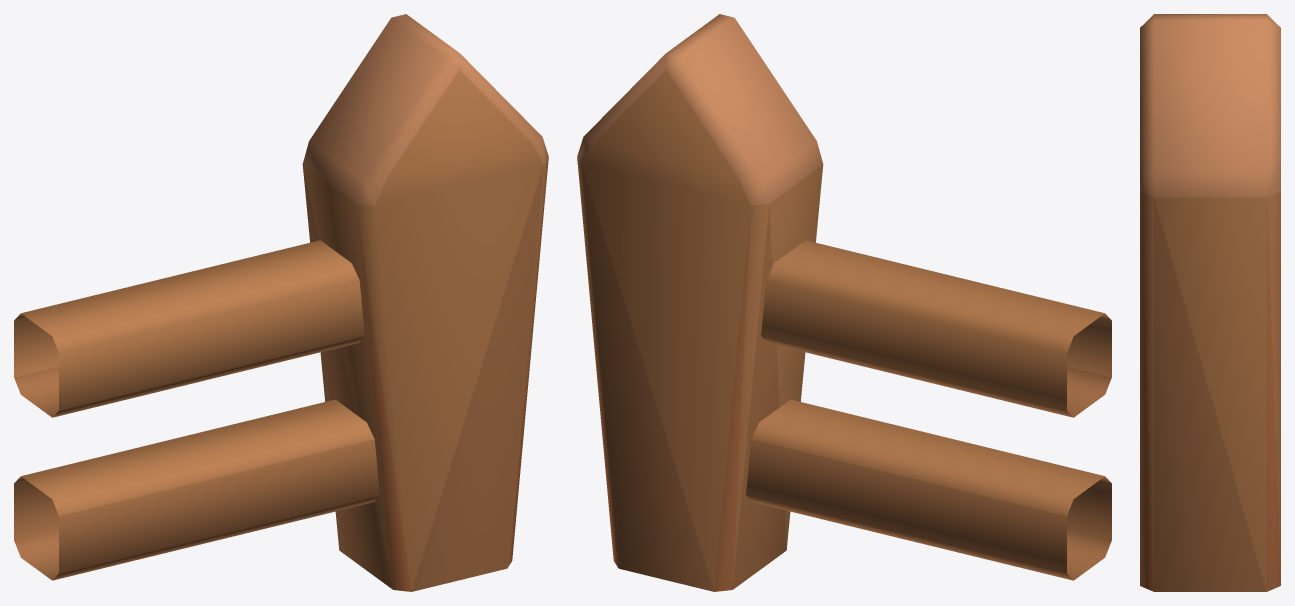
The model's file is itch_tiny_homely_house_fence_open.glb.
3 renders of one model, left to right at view 1: azimuth 30°, elevation 25°; view 2: azimuth 150°, elevation 25°; view 3: azimuth 270°, elevation 25°, orthographic. The views are drawn at different scales.
Visible parts, largest first — view 1: fence_open; view 2: fence_open; view 3: fence_open.
Boxes of the visible parts, left/top/right/bottom form: fence_open: left=14, top=14, right=548, bottom=591; fence_open: left=577, top=14, right=1111, bottom=591; fence_open: left=1140, top=14, right=1280, bottom=591.
Bounding box in the file's own units: 1.18 × 1.21 × 0.2839.
